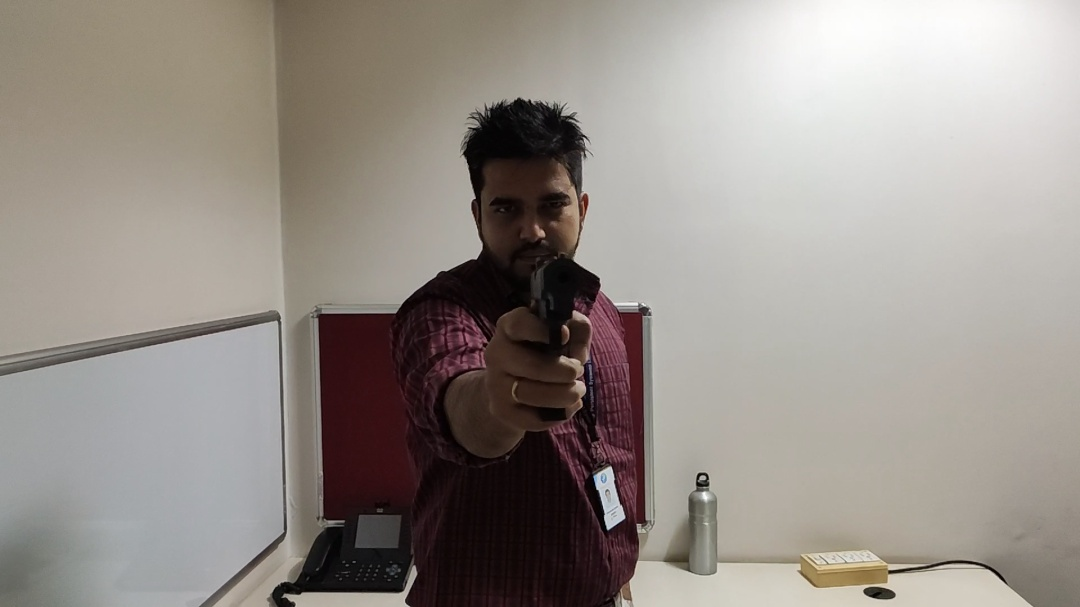gun: (470, 271, 609, 356)
